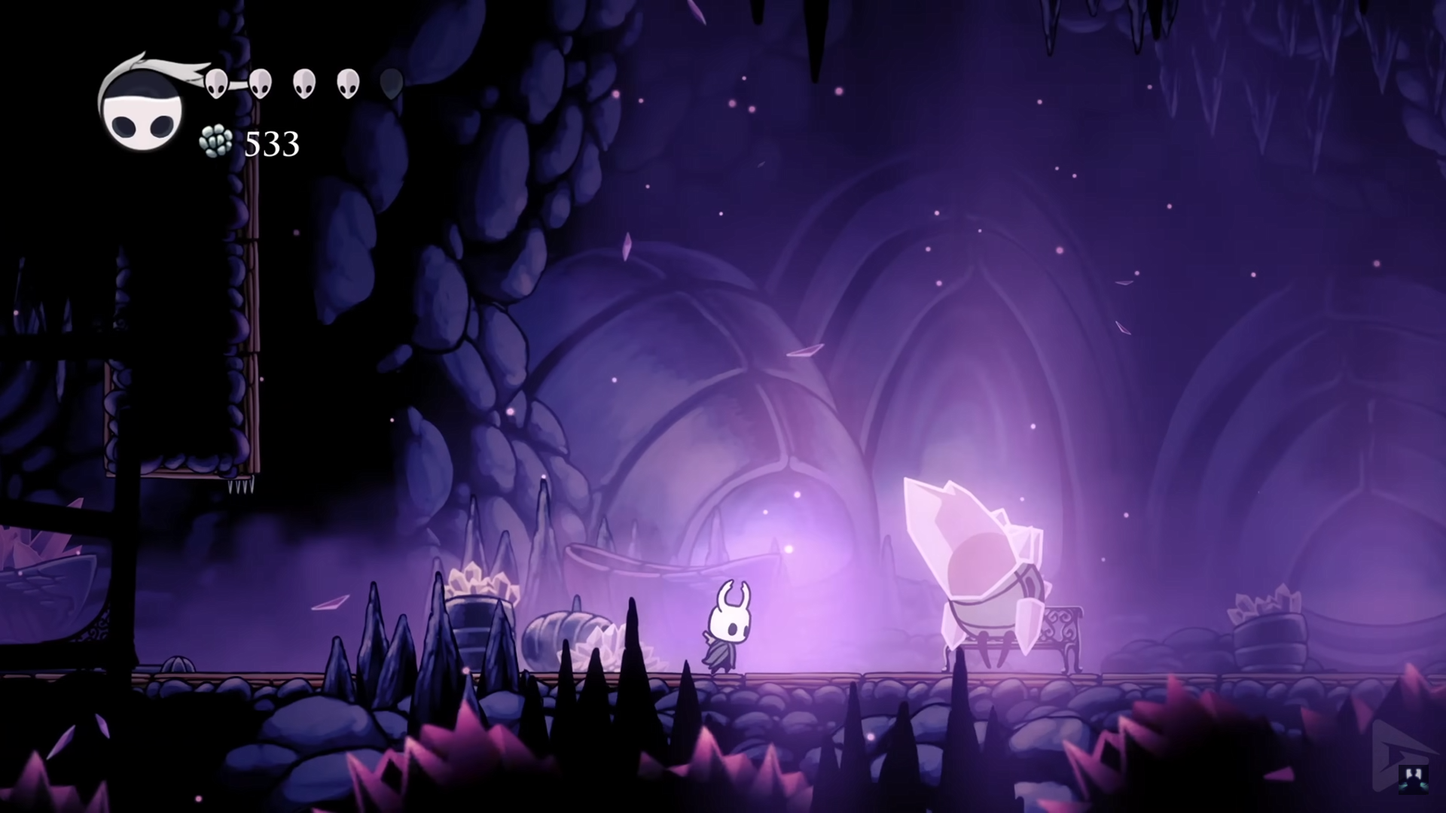HK: (700, 574, 757, 674)
